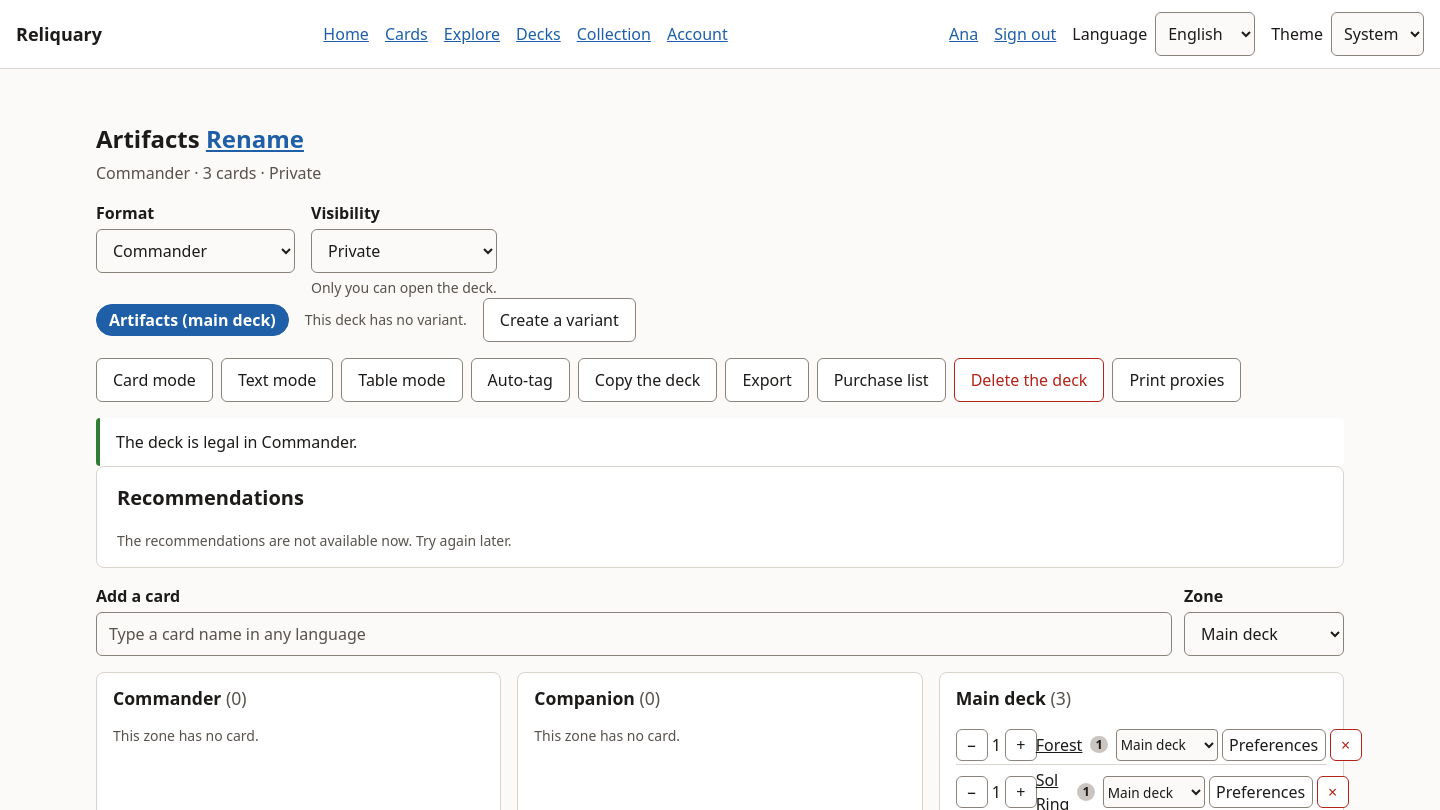
auto-tag › tells the user to open auto-tag again after a change of the deck
Click the button "Auto-tag". click: click(520, 380)
box: [470, 358, 570, 402]
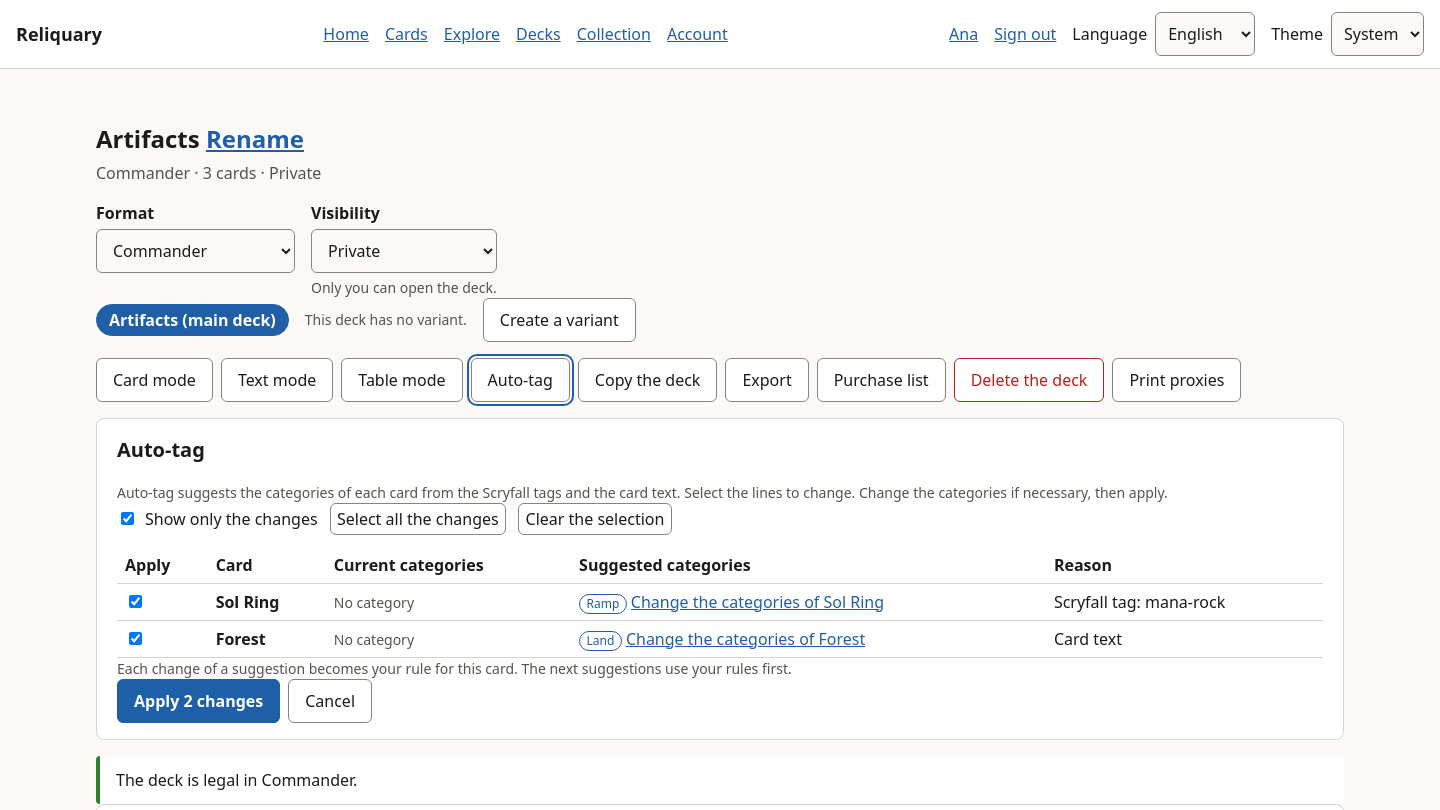
Expected: the table is shown, [117, 546, 1323, 658]
Click the button "Apply 2 changes". click: click(199, 700)
box: [117, 678, 280, 722]
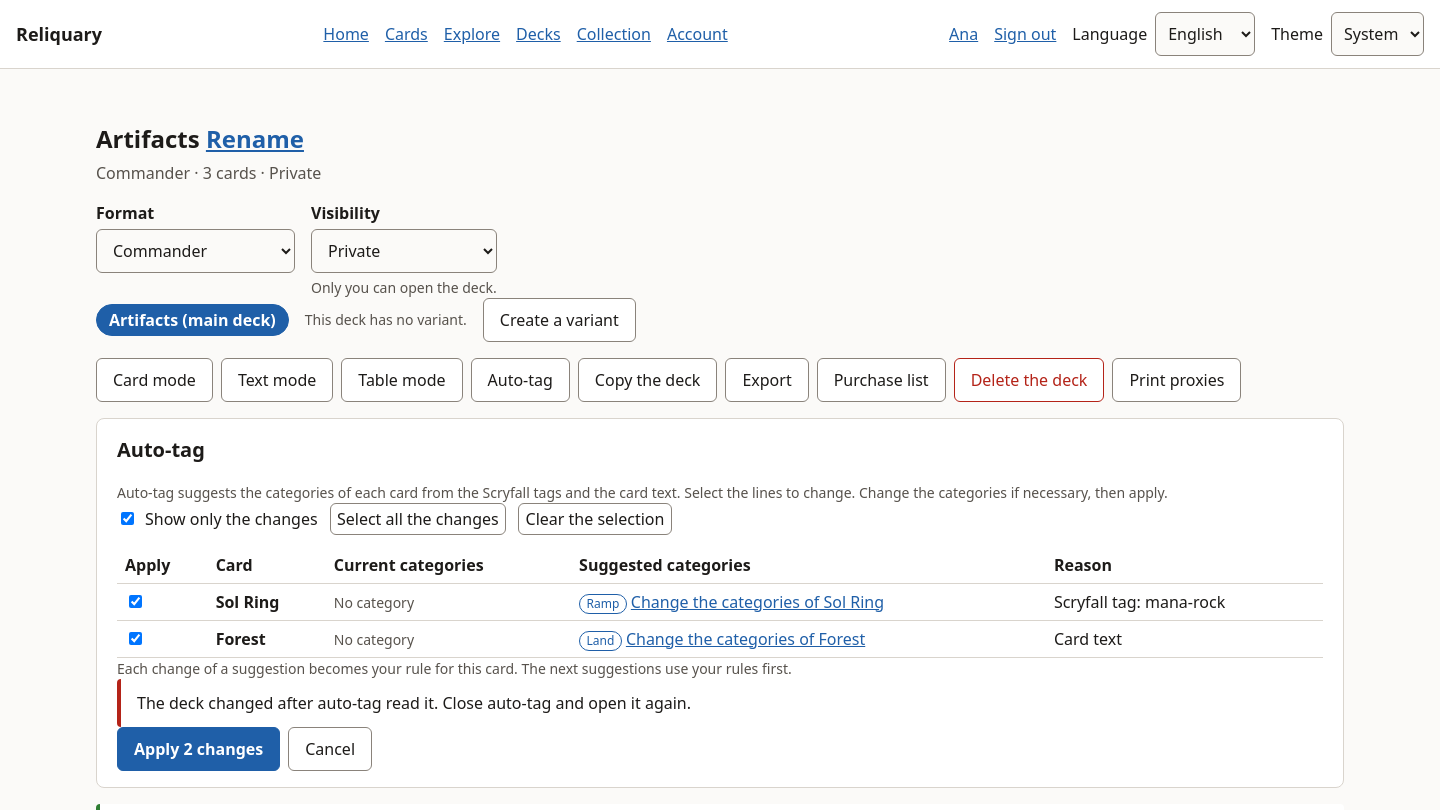
Expected: the message "The deck changed after auto-tag read it. Close auto-tag and open it again." is shown, [117, 678, 1323, 726]
